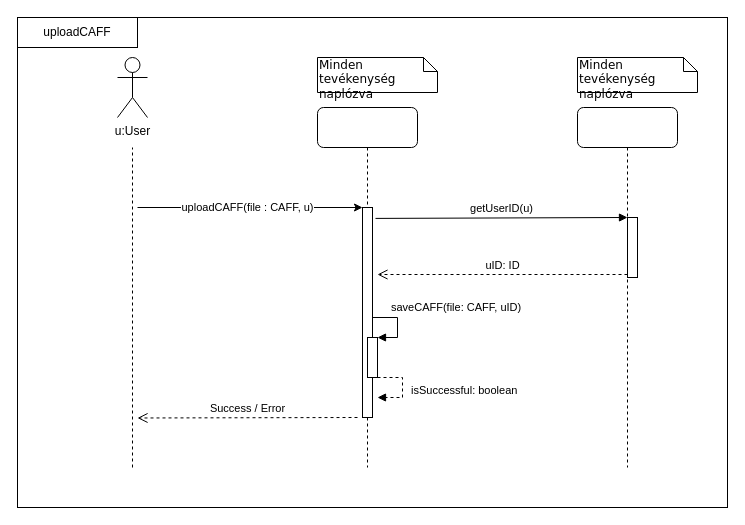
This 745x525 diagram has some shape labels left out. Here are the shapes that lost their labels. From the top down, the box of each, then its label:
(316, 106, 418, 468): :Fájlkezelő
(576, 106, 678, 468): :Felhasználói adatkezelő
